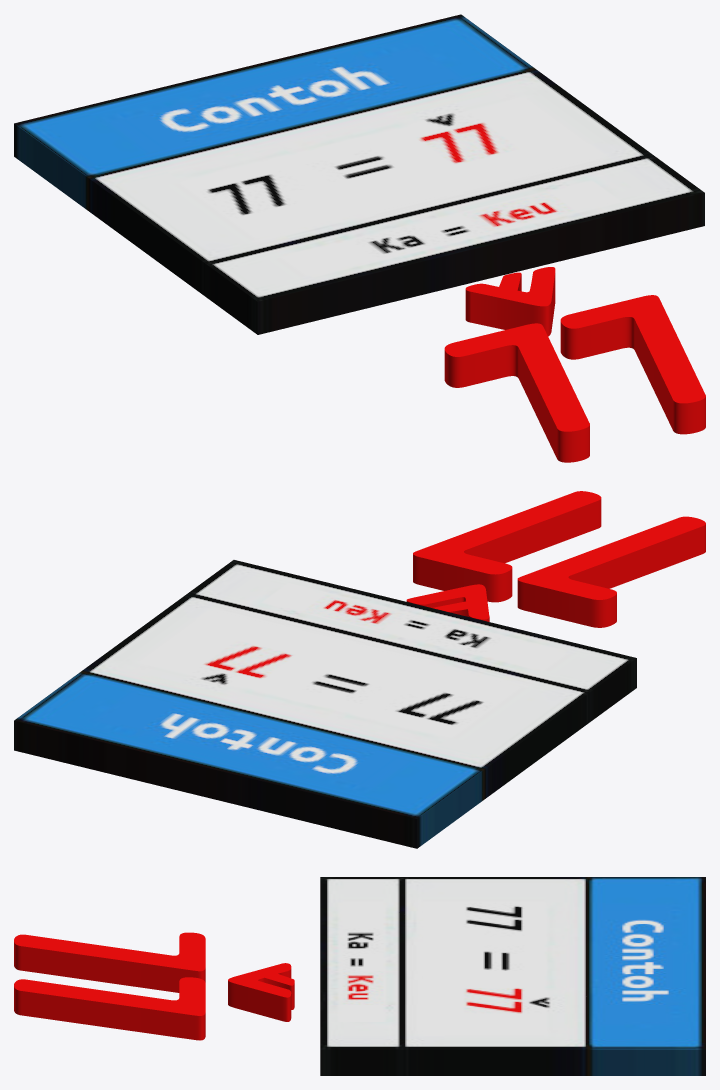
File: keu.fbx
3 renders of one model, top to bottom at view 1: azimuth 30°, elevation 25°; view 2: azimuth 150°, elevation 25°; view 3: azimuth 270°, elevation 25°, orthographic. The views are drawn at different scales.
Visible parts, largest first — view 1: contoh-eu-Rarangken, Text; view 2: contoh-eu-Rarangken, Text; view 3: contoh-eu-Rarangken, Text.
Boxes of the visible parts, x1,y1,x2,y2 form: contoh-eu-Rarangken: (14,14,704,334); Text: (444,267,705,462); contoh-eu-Rarangken: (14,560,636,848); Text: (406,491,705,627); contoh-eu-Rarangken: (320,877,705,1075); Text: (14,932,294,1040).
Bounding box in the file's own units: 1.06 × 0.11 × 1.79.
2 materials, 1 textured.
